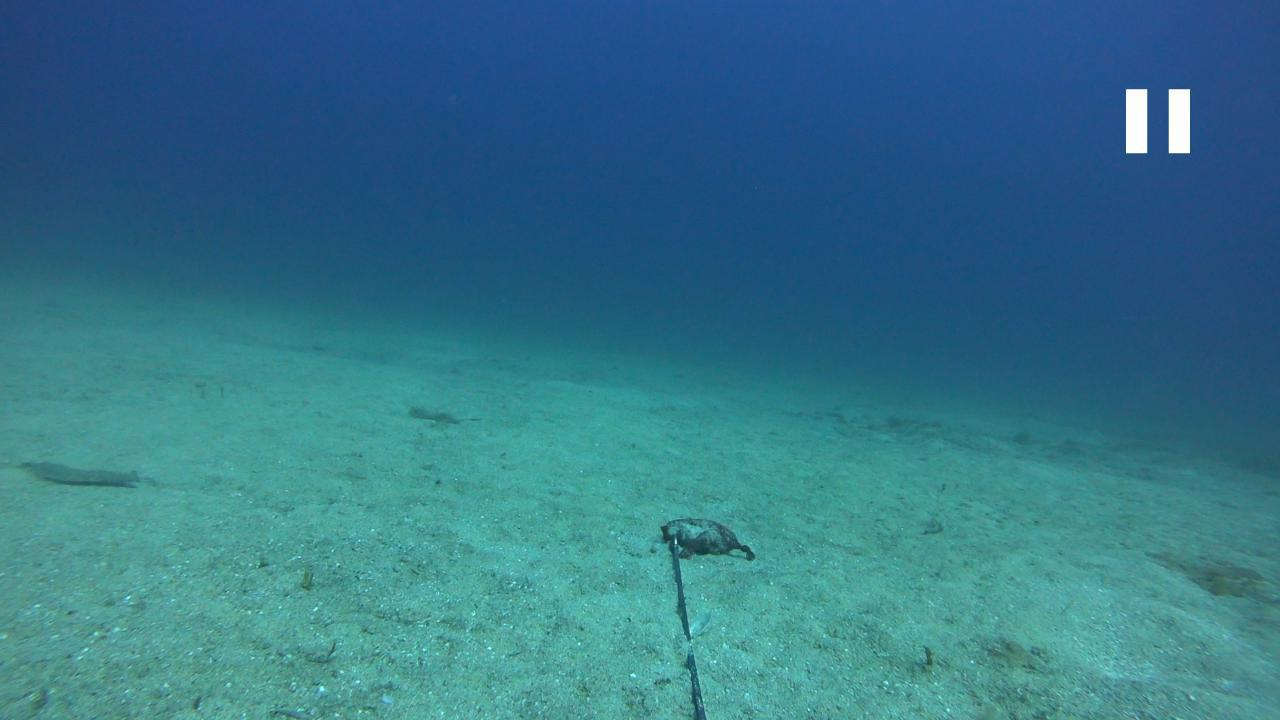bothus: (6, 453, 150, 492)
